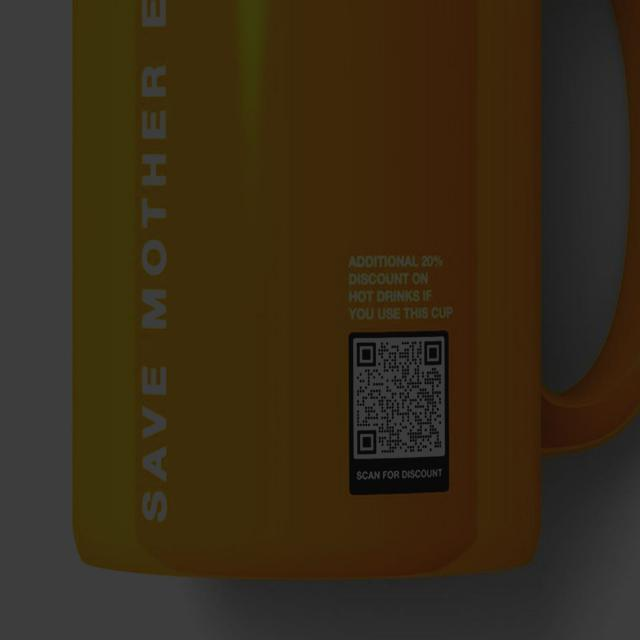qr_code: (356, 339, 443, 457)
